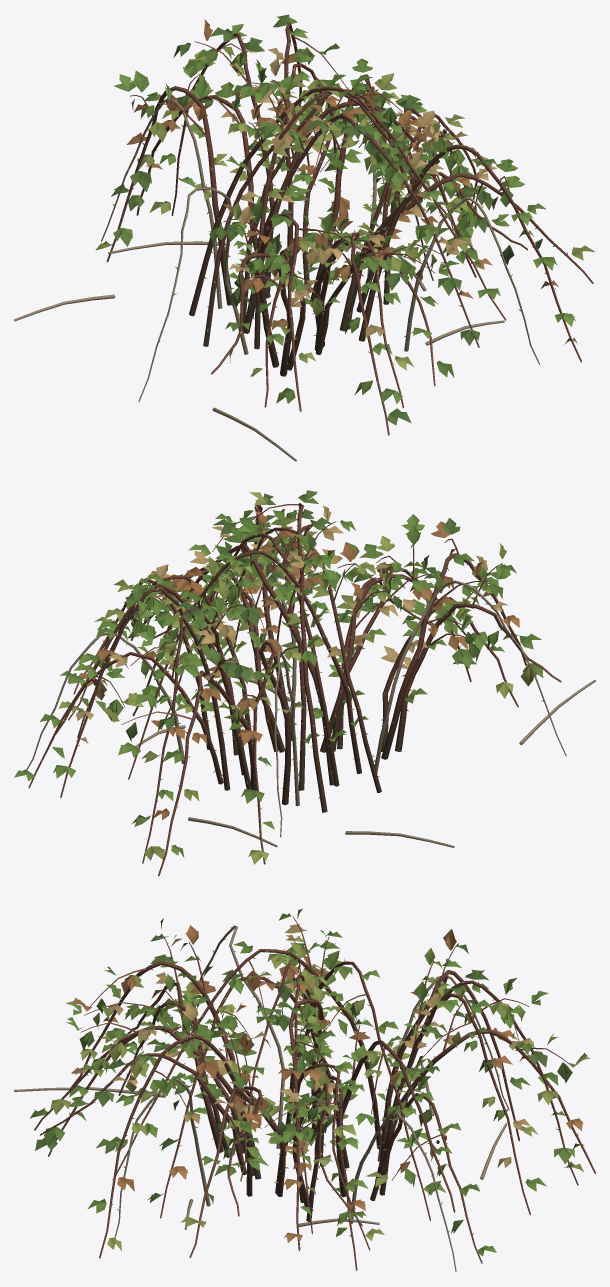
File: briar_thicket.glb
3 renders of one model, top to bottom at view 1: azimuth 30°, elevation 25°; view 2: azimuth 150°, elevation 25°; view 3: azimuth 270°, elevation 25°, orthographic. The views are drawn at different scales.
Visible parts, largest first — view 1: briar_thicket_LOD0; view 2: briar_thicket_LOD0; view 3: briar_thicket_LOD0.
Part boxes in pixels (bbox=[...]): briar_thicket_LOD0: bbox=[14, 14, 594, 461]; briar_thicket_LOD0: bbox=[14, 490, 595, 876]; briar_thicket_LOD0: bbox=[14, 908, 595, 1271].
Size of what is drawn, in the model's own units: 3.65 by 2.12 by 4.23.
